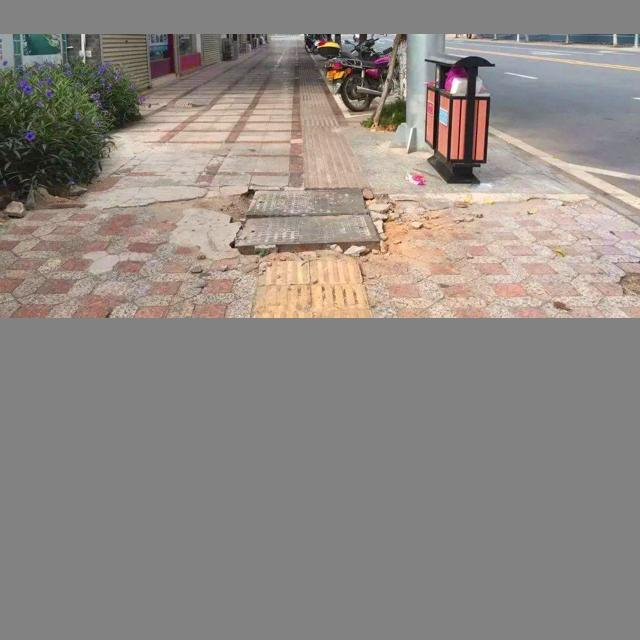circle: (204, 170, 423, 285)
